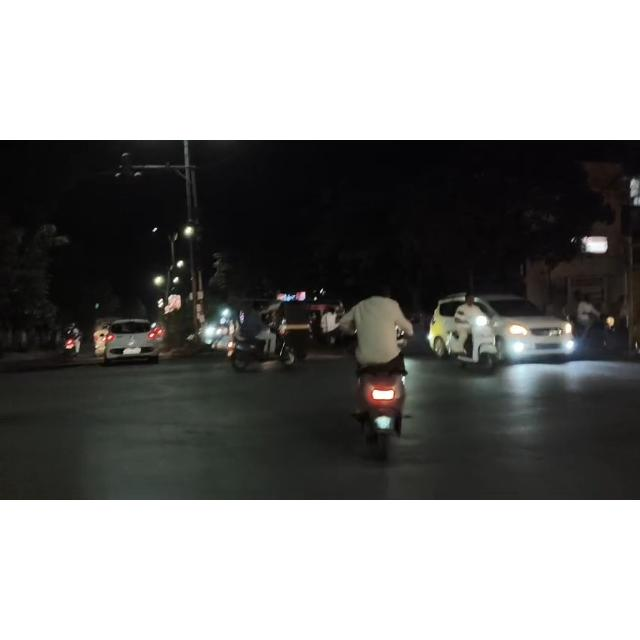auto: (237, 299, 325, 361)
car: (429, 290, 579, 366), (102, 317, 166, 363)
